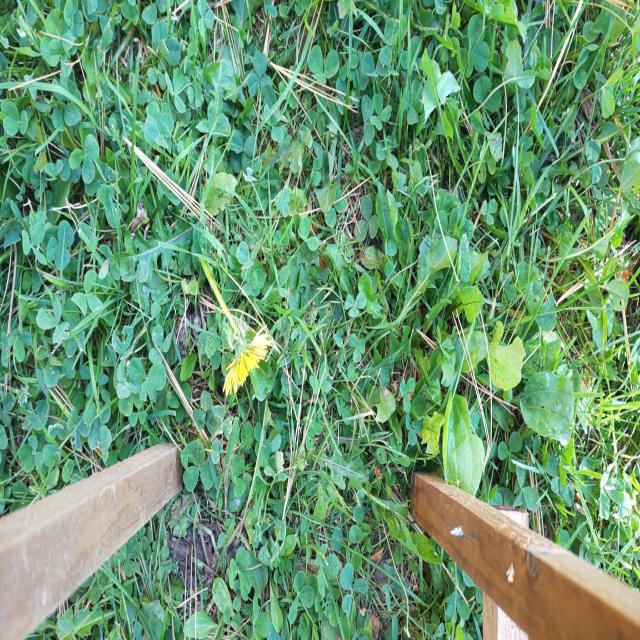base: (196, 251, 214, 285)
